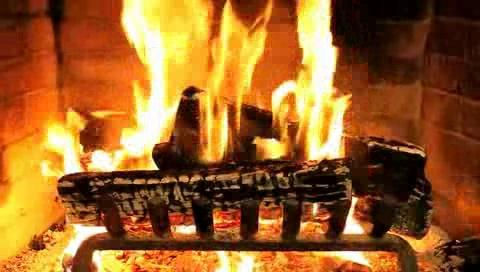fire: (105, 1, 365, 176)
